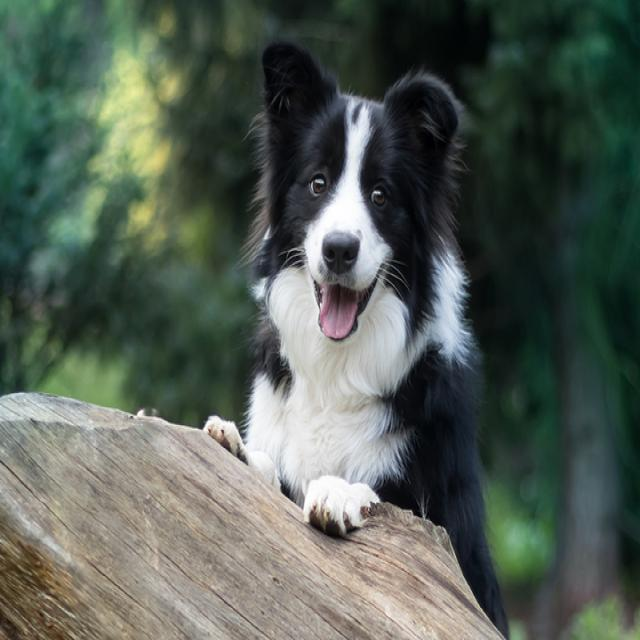dog: (174, 27, 554, 640)
